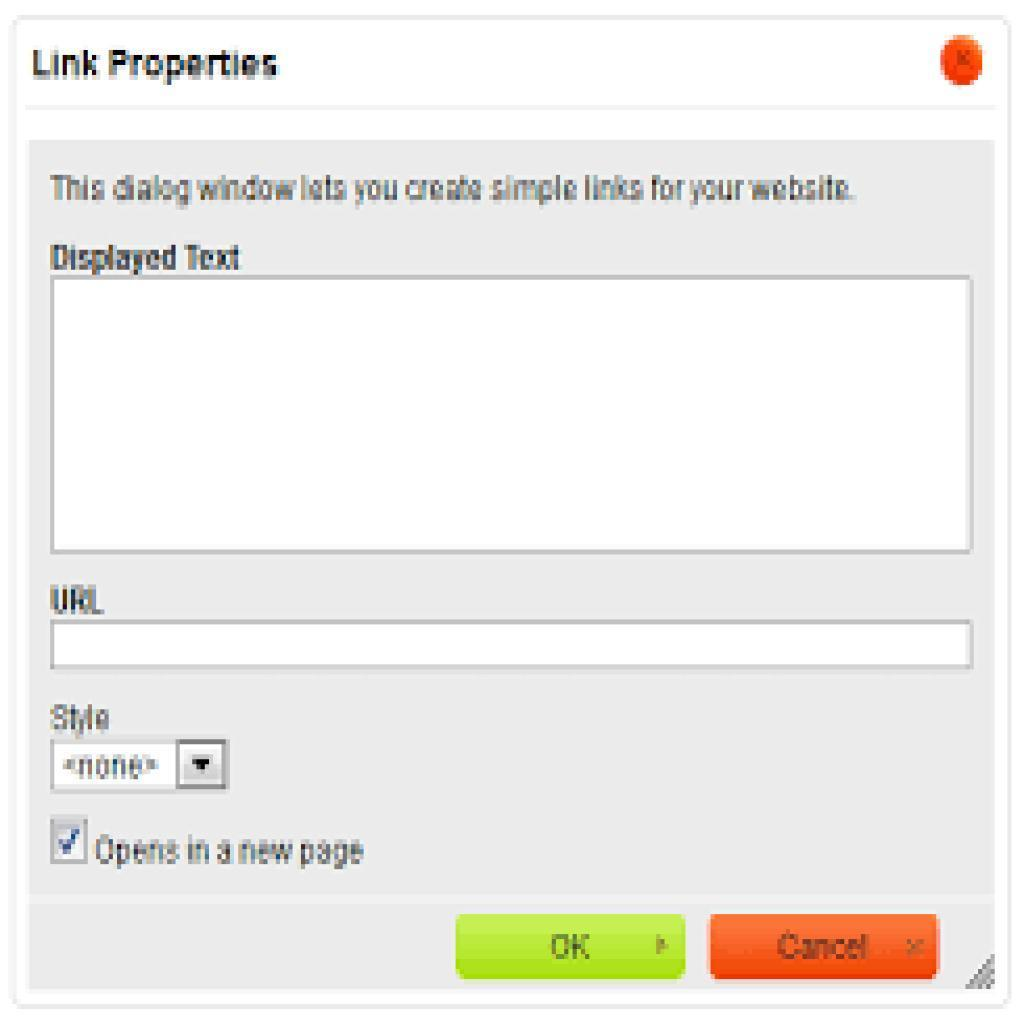button: (710, 915, 945, 979), (456, 917, 684, 978)
checkbox: (51, 814, 90, 865)
dropdown: (54, 743, 226, 790)
